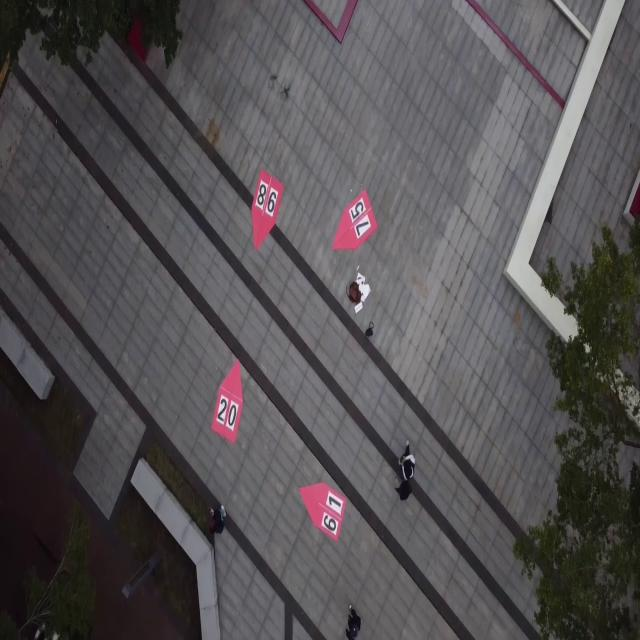-sign-: (332, 188, 378, 252), (250, 167, 284, 251), (210, 358, 243, 444), (300, 482, 345, 544)
